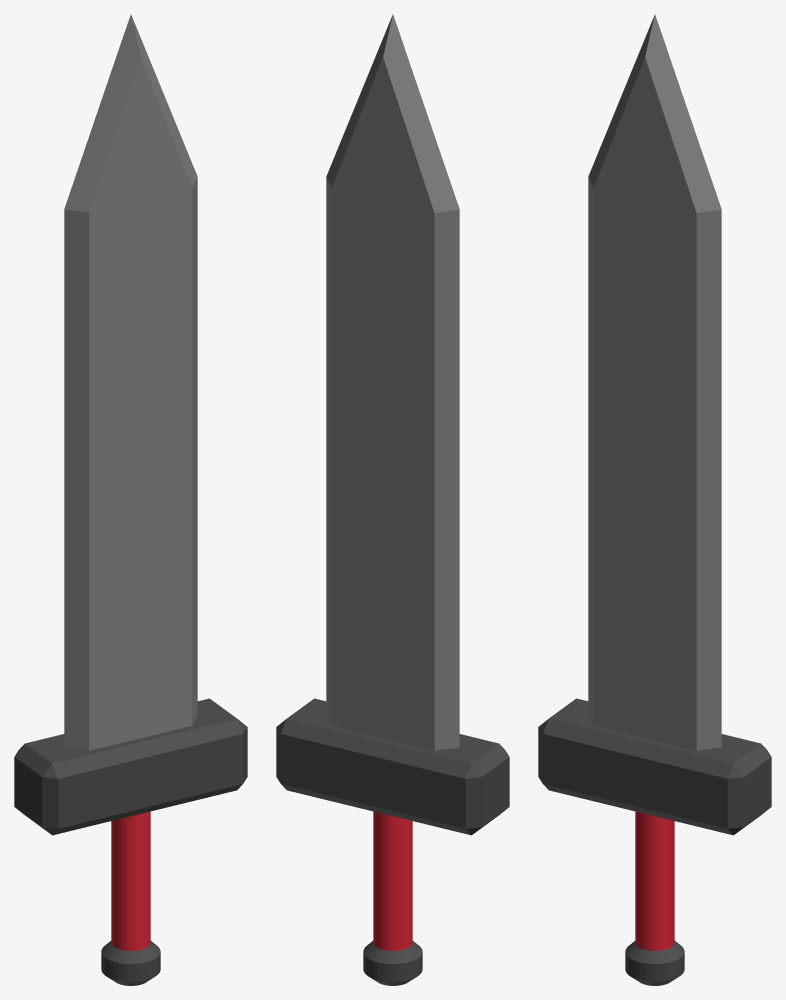
Rendered from Espasa.fbx.
3 renders of one model, left to right at view 1: azimuth 30°, elevation 25°; view 2: azimuth 150°, elevation 25°; view 3: azimuth 330°, elevation 25°, orthographic.
Parts seen in each view (by area): view 1: Cylinder.001; view 2: Cylinder.001; view 3: Cylinder.001.
Boxes of the visible parts, x1,y1,x2,y2 form: Cylinder.001: (14, 14, 247, 985); Cylinder.001: (276, 14, 509, 985); Cylinder.001: (538, 14, 771, 985).
Size of the model in its own units: 0.72 by 3.23 by 0.24.
